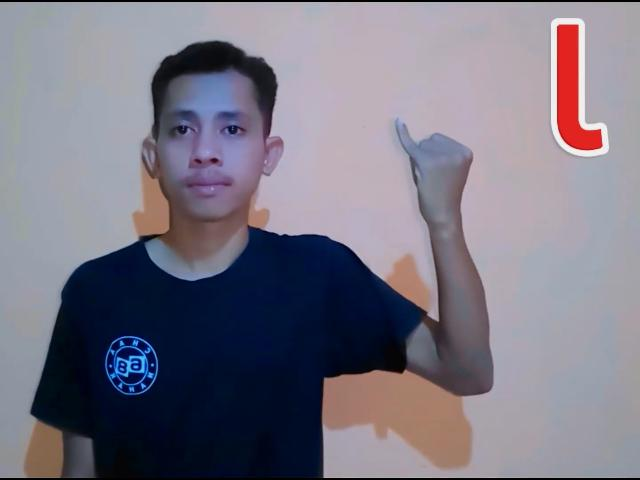J: (390, 116, 478, 230)
